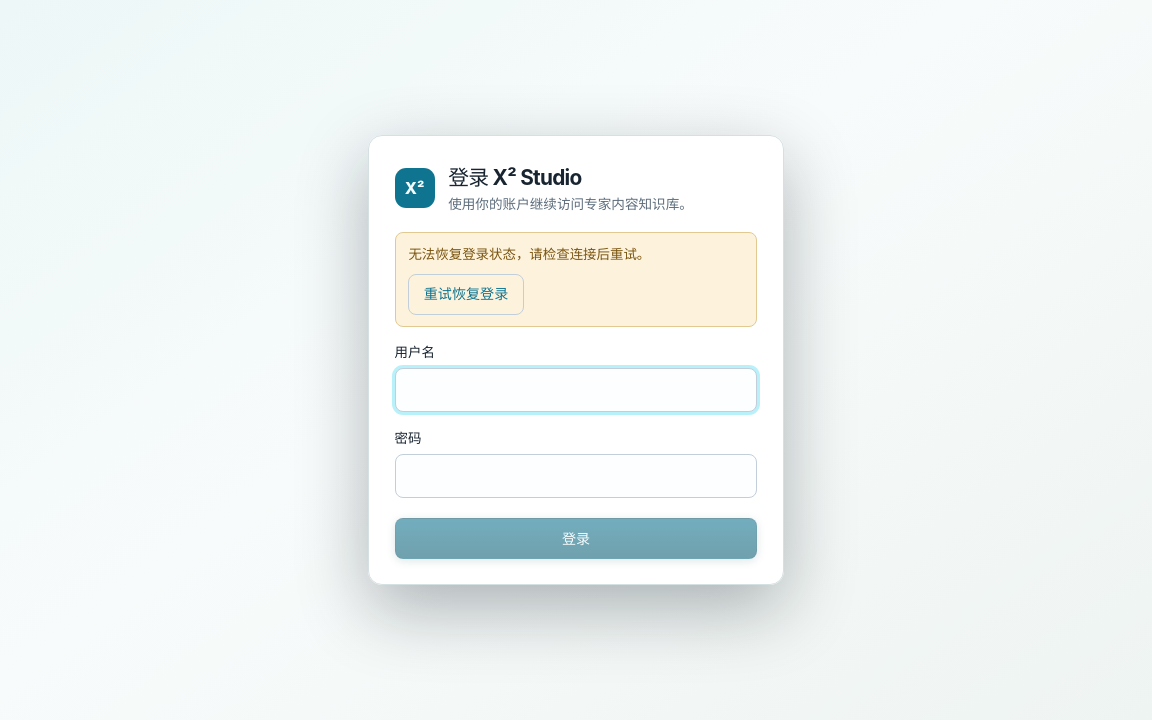
App › keeps non-auth recovery failures out of the studio and can retry safely
expect the message shows "无法恢复登录状态，请检查连接后重试。": met, box [408, 246, 650, 262]
Click the button "重试恢复登录": (466, 294) [408, 274, 524, 315]
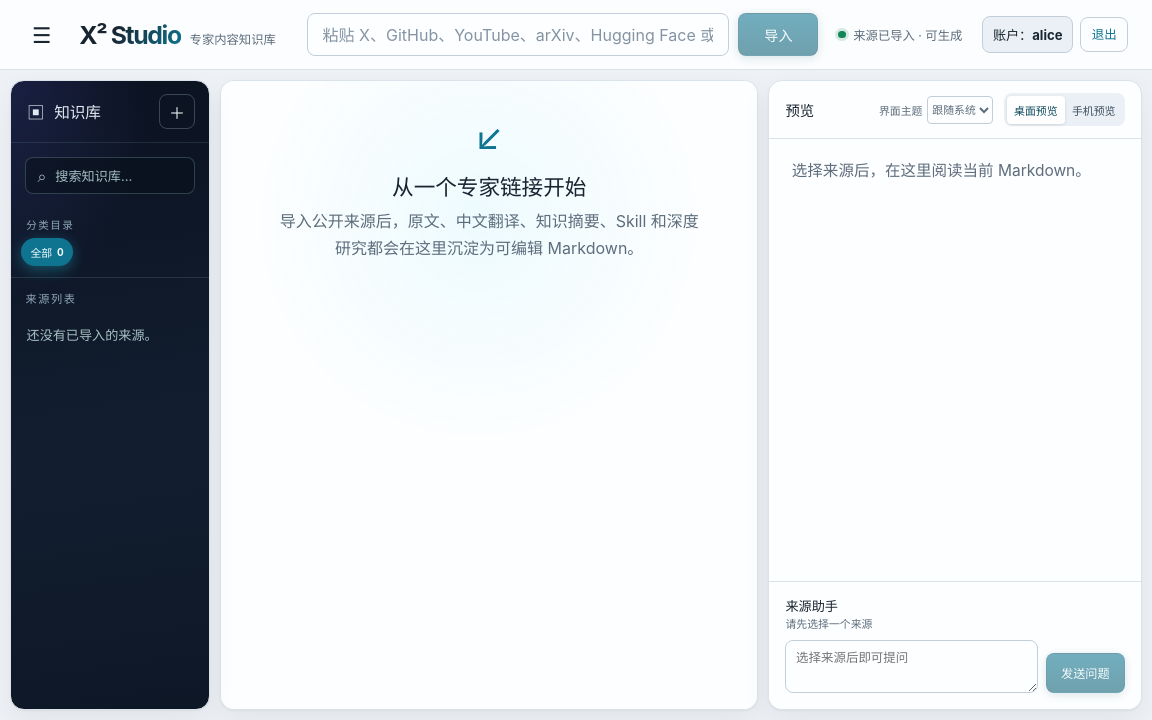
expect the button named "打开知识库" is shown: met, box [24, 17, 59, 52]
